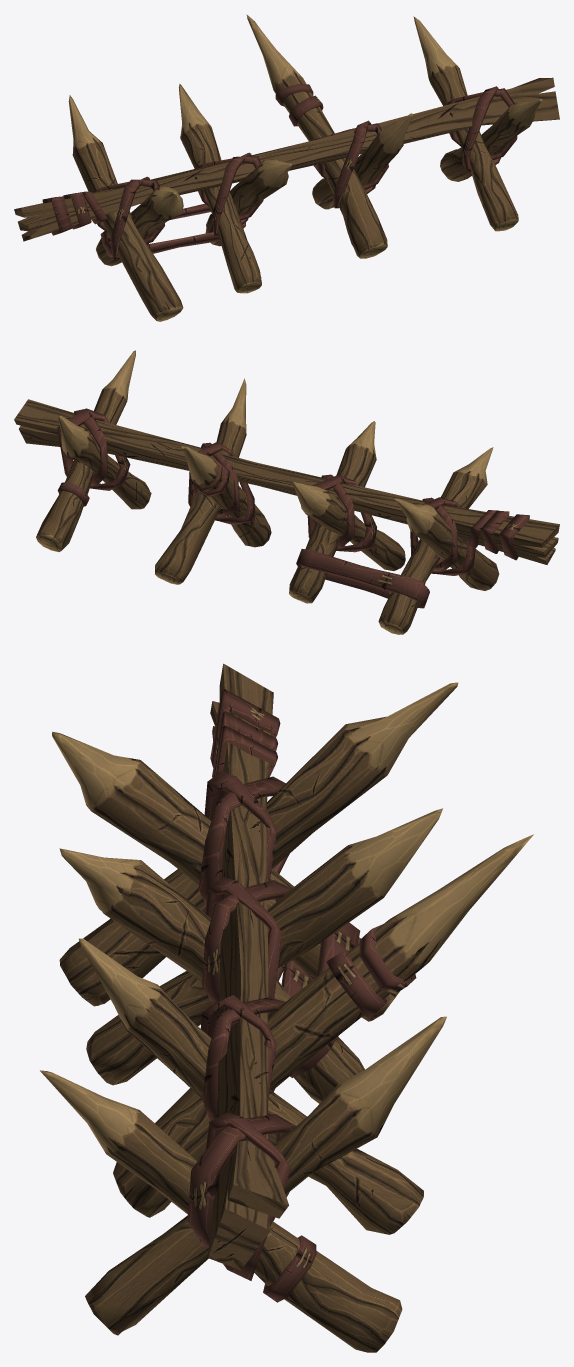
Rendered from Pointy Fence.fbx.
3 views of the same model, one above another, from view 1: azimuth 30°, elevation 25°; view 2: azimuth 150°, elevation 25°; view 3: azimuth 270°, elevation 25° (orthographic). The views are drawn at different scales.
Visible parts, largest first — view 1: node_id5; view 2: node_id5; view 3: node_id5.
Boxes of the visible parts, x1,y1,x2,y2 form: node_id5: [14, 14, 559, 321]; node_id5: [14, 350, 559, 634]; node_id5: [40, 663, 533, 1352].
Bounding box in the file's own units: 0.512 × 0.1639 × 0.2073.
1 material, 1 textured.
